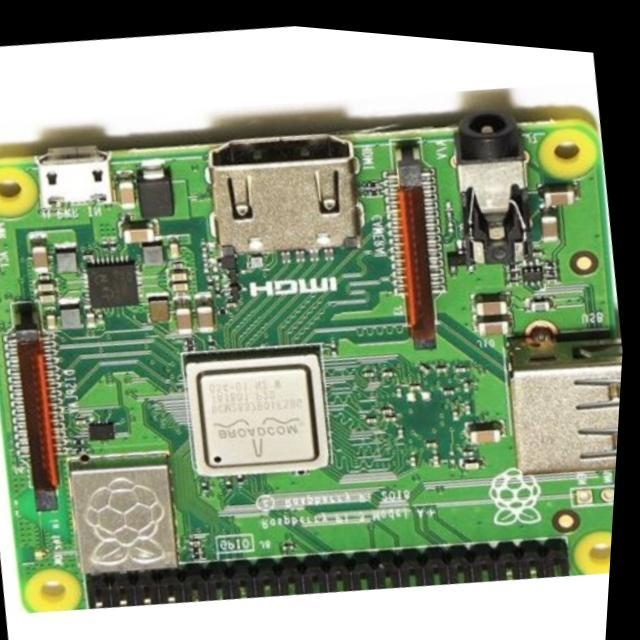Raspberry-Pi-3-A-: (1, 108, 622, 613)
